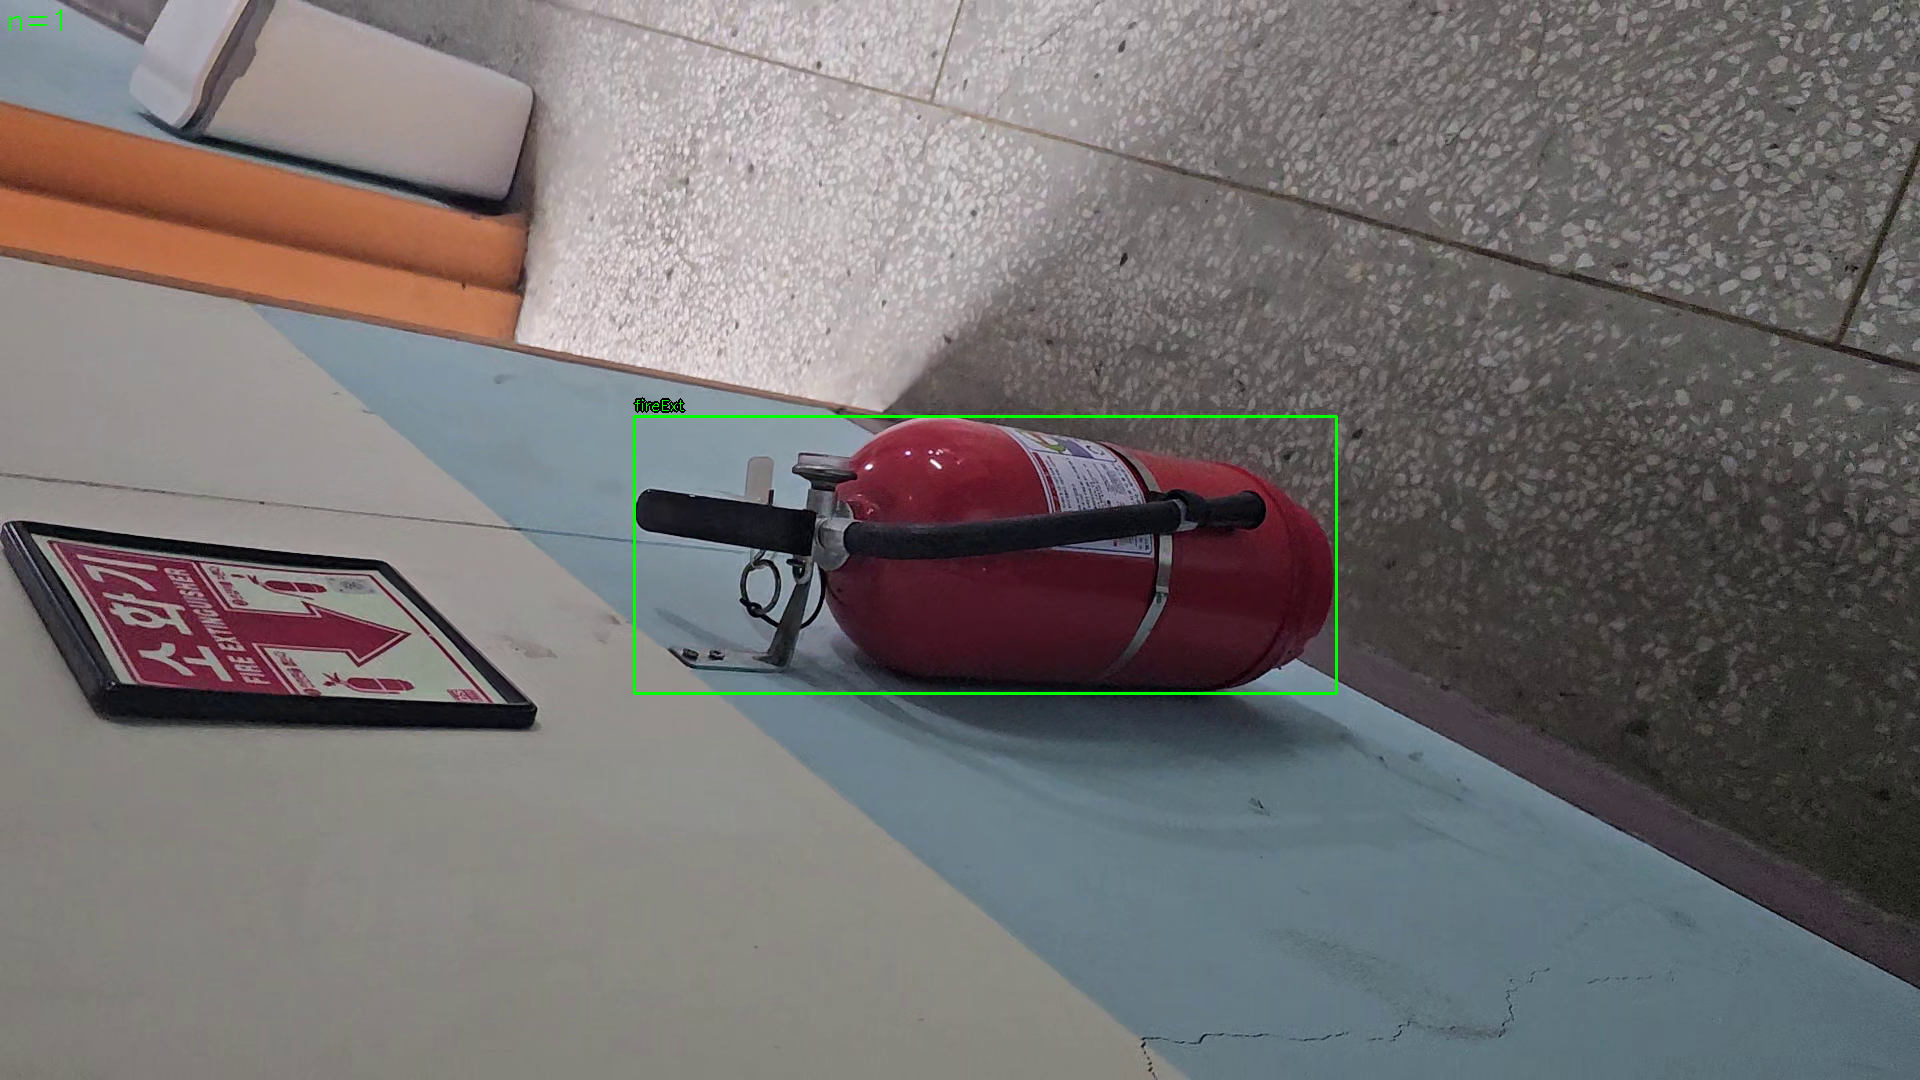lane: (634, 415, 1337, 694)
